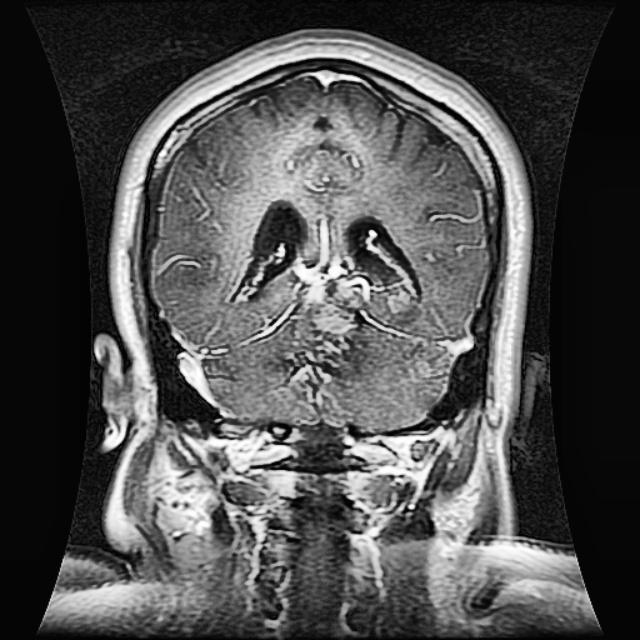Meningioma: (287, 252, 373, 408)
